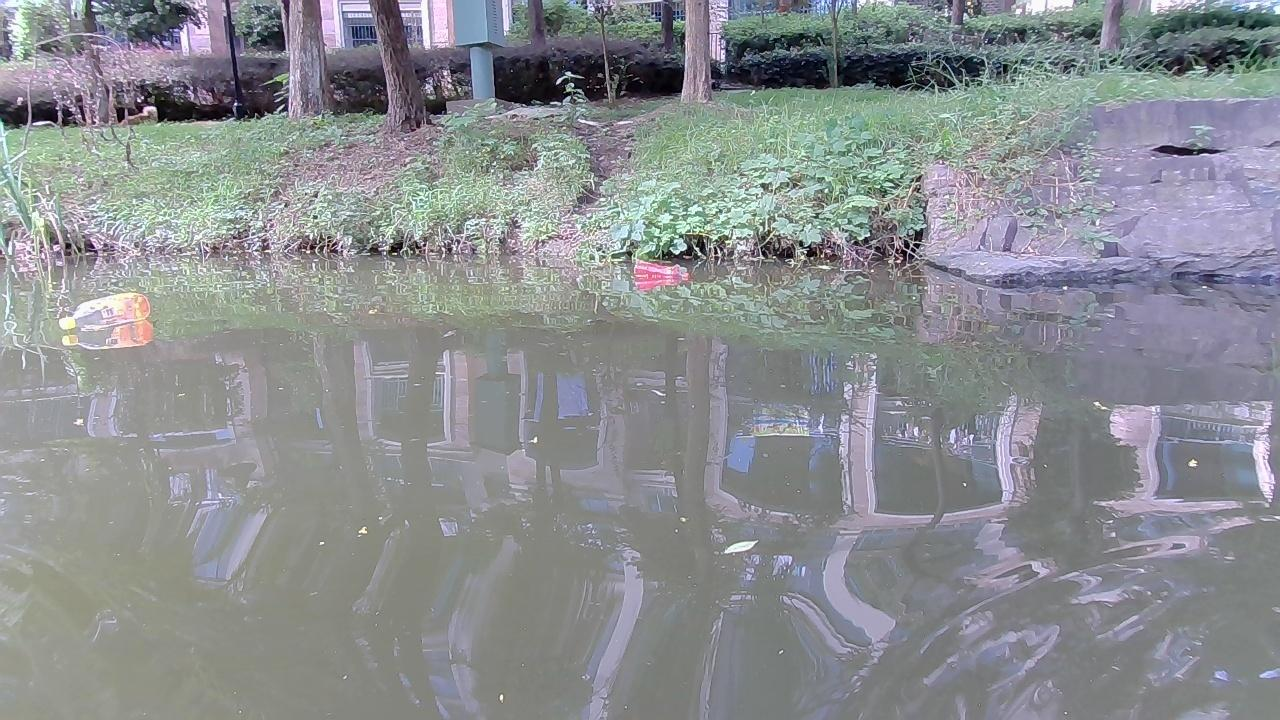bottle: (62, 295, 153, 331), (630, 258, 690, 284)
